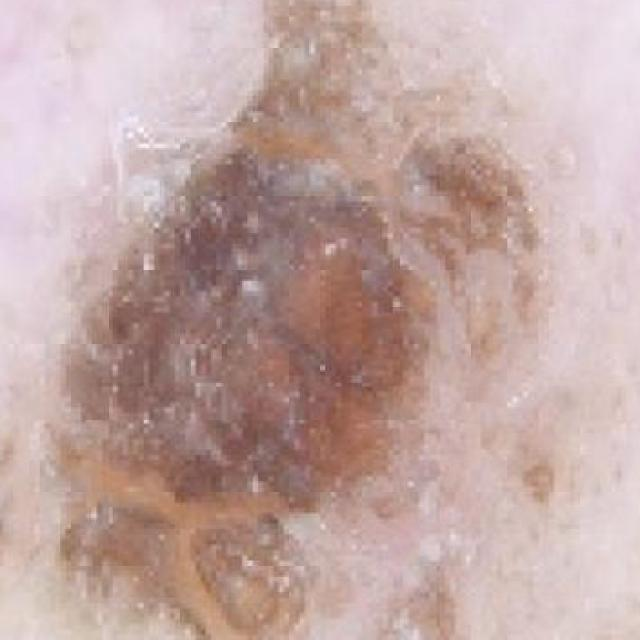BKL: (0, 0, 575, 640)
